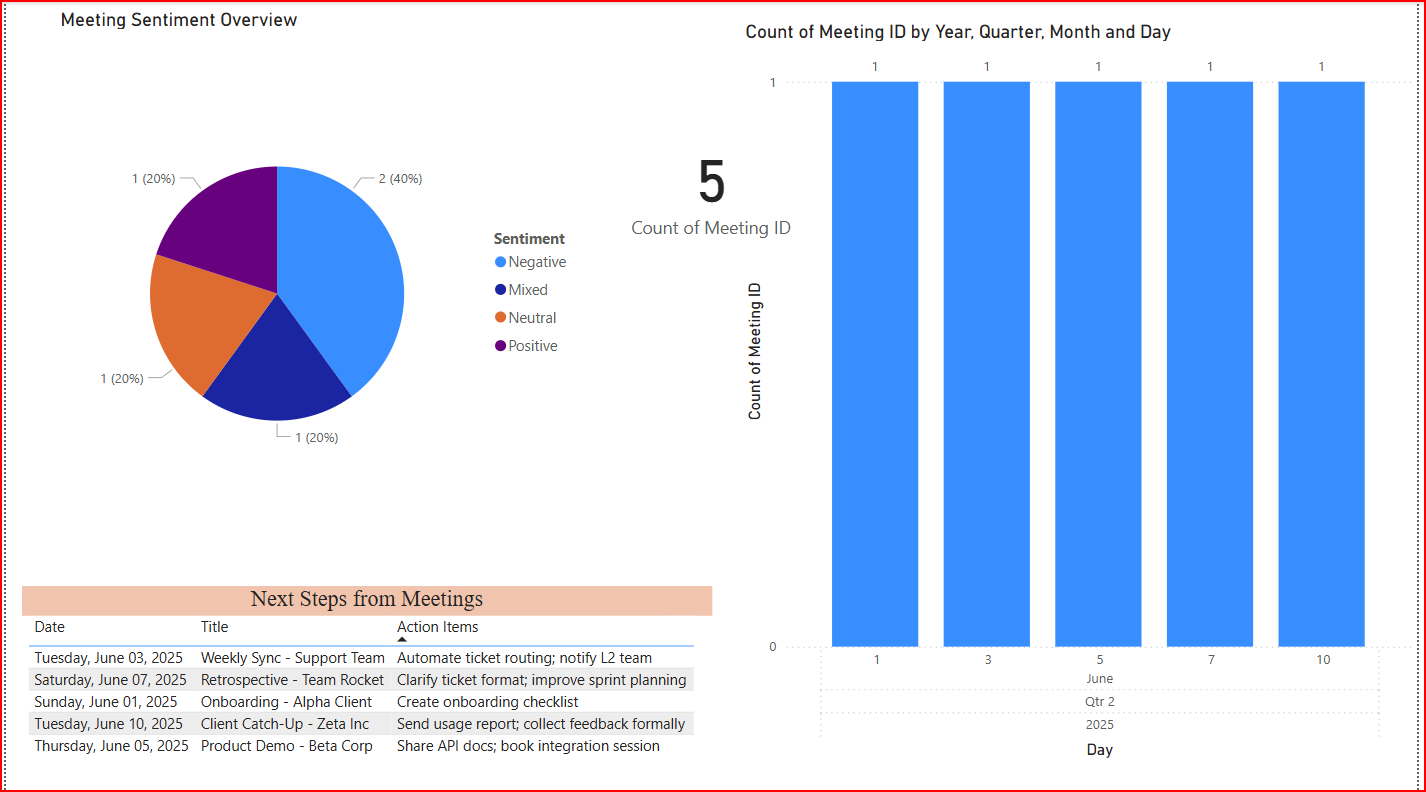

Layout of this report page (visuals, bound fields, positions):
{"tool":"powerbi","page":{"name":"Page 1","canvas":[1280,720],"ordinal":0},"visuals":[{"type":"pieChart","title":"Meeting Sentiment Overview","fields":{"Category":["Sheet1.Sentiment"],"Y":["CountNonNull(Sheet1.Sentiment)"]},"box":[44.3,5,484.8,498.9],"z":0},{"type":"columnChart","fields":{"Y":["CountNonNull(Sheet1.Meeting ID)"],"Category":["Sheet1.Date.Variation.Date Hierarchy.Year","Sheet1.Date.Variation.Date Hierarchy.Quarter","Sheet1.Date.Variation.Date Hierarchy.Month","Sheet1.Date.Variation.Date Hierarchy.Day"]},"box":[665.2,16.1,614.8,674.3],"z":1000},{"type":"tableEx","title":"Next Steps from Meetings","fields":{"Values":["Sheet1.Date","Sheet1.Title","Sheet1.Action Items"]},"box":[14.1,529.1,625.9,161.3],"z":2000},{"type":"card","fields":{"Values":["CountNonNull(Sheet1.Meeting ID)"]},"box":[553.3,85.7,172.3,161.3],"z":2001}]}

Visuals, with their boxes in screenshot pixels (x1, y1, x2, y2), scaled from the page's 1280x720 canvas onto the 1426x792 screenshot:
"Meeting Sentiment Overview" pieChart: (49, 6, 589, 554)
columnChart - CountNonNull(Sheet1.Meeting ID) x Sheet1.Date.Variation.Date Hierarchy.Year: (741, 18, 1425, 759)
"Next Steps from Meetings" tableEx: (16, 582, 713, 759)
card - CountNonNull(Sheet1.Meeting ID): (616, 94, 808, 272)
